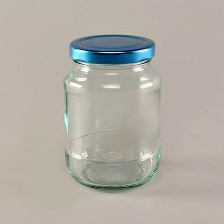bottle: (61, 31, 170, 196)
